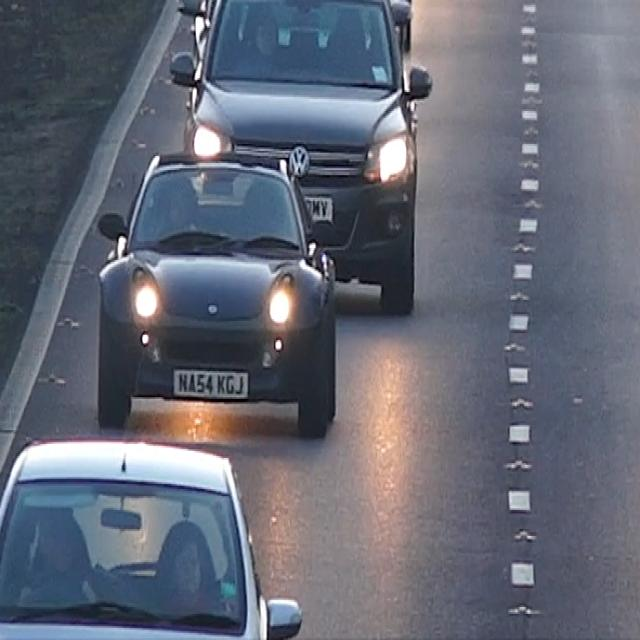Autre: (170, 363, 262, 401)
